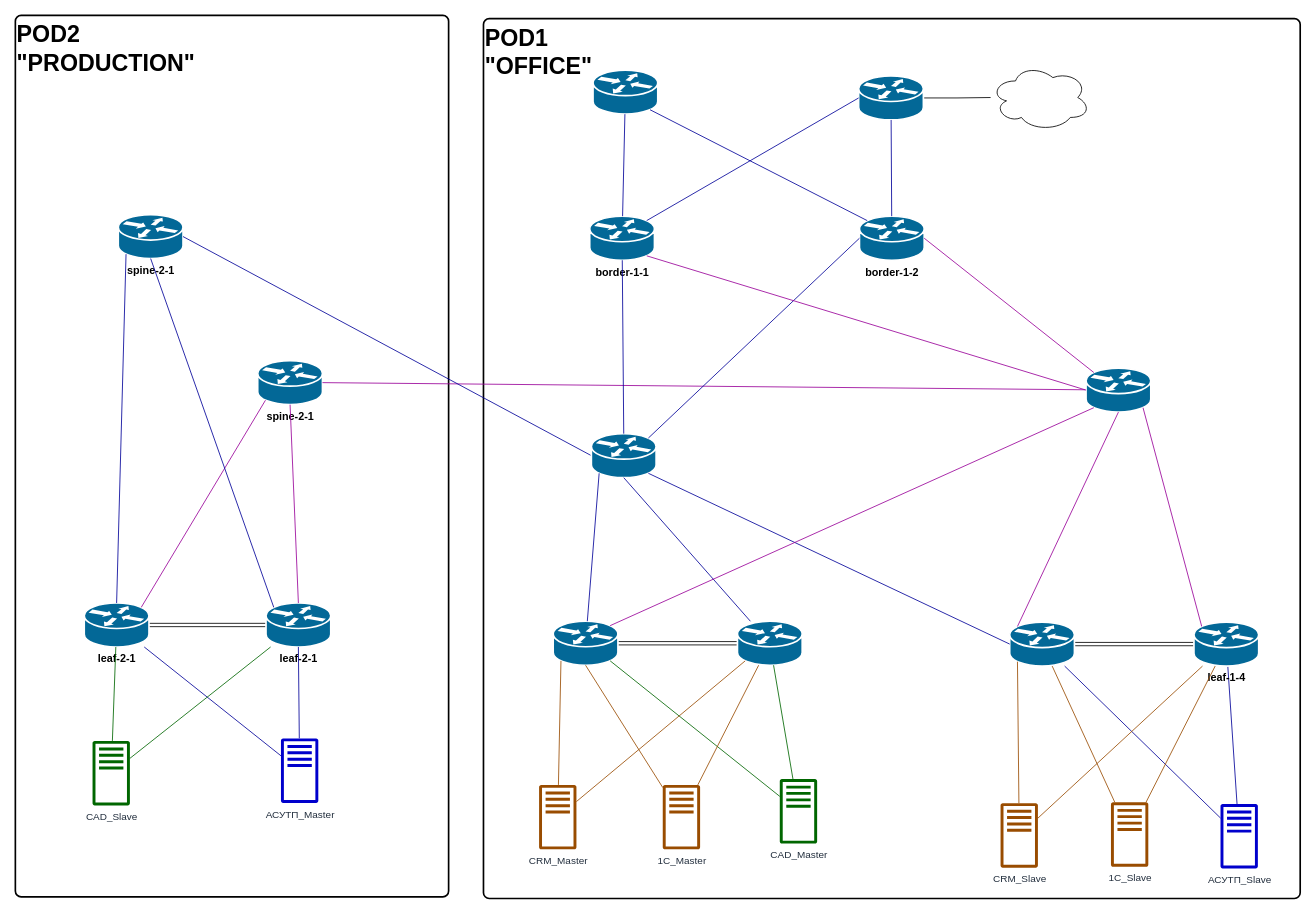
Image size: 1315x913. Some labels were removed from this diagram. The centre of each missing label's shape, as x and y in pixels:
Ext-Router-1: the point at 890,97
Int-Router-1: the point at 625,92
Internet: the point at 1040,97
leaf-1-1: the point at 585,643
leaf-1-2: the point at 769,643
leaf-1-3: the point at 1041,643
spine-1-1: the point at 623,455
spine-1-2: the point at 1118,390
